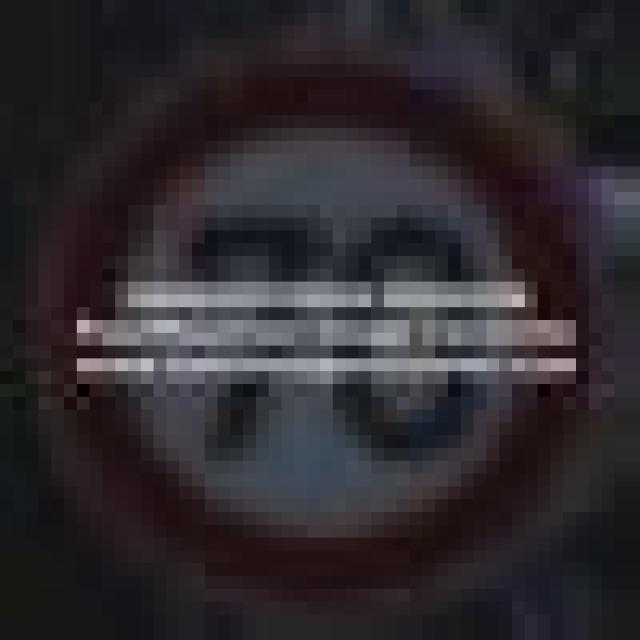SPEED_LIMIT_70: (38, 64, 576, 563)
